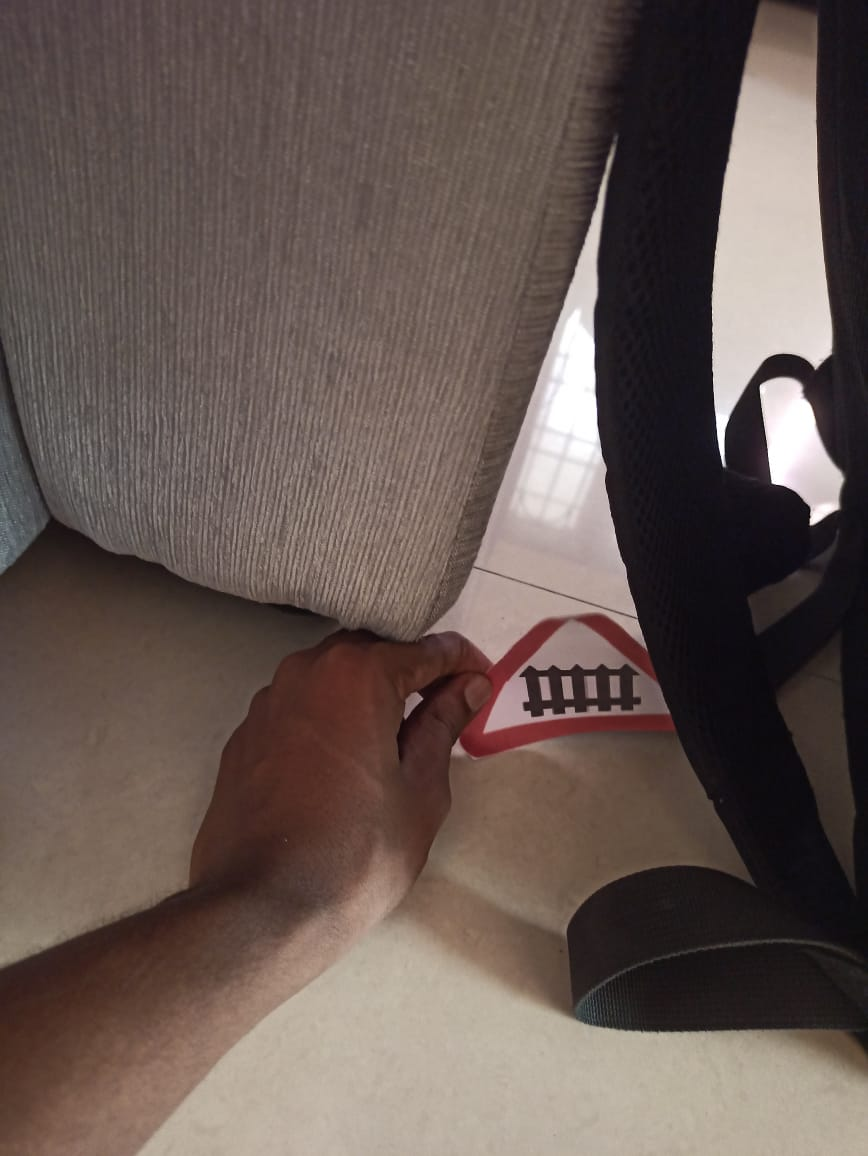GUARDED LEVEL CROSSING: (437, 542, 725, 766)
